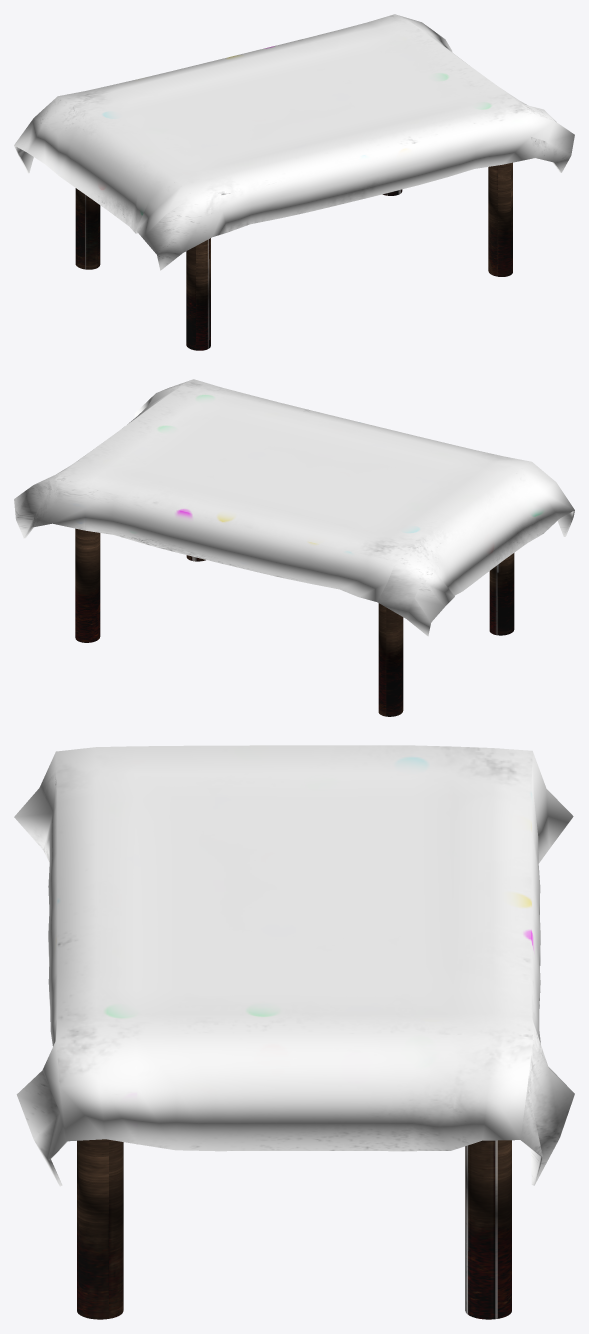
Rendered from party table.glb.
The picture shows the model from 3 angles, top to bottom: view 1: azimuth 30°, elevation 25°; view 2: azimuth 150°, elevation 25°; view 3: azimuth 270°, elevation 25°; orthographic projection. The views are drawn at different scales.
Visible parts, largest first — view 1: Plane; view 2: Plane; view 3: Plane.
Part boxes in pixels (<box>): Plane: <box>14,14,574,350</box>; Plane: <box>14,379,574,716</box>; Plane: <box>14,745,574,1319</box>.
Bounding box in the file's own units: 38.57 × 14.22 × 24.77.
2 materials, 2 textured.
